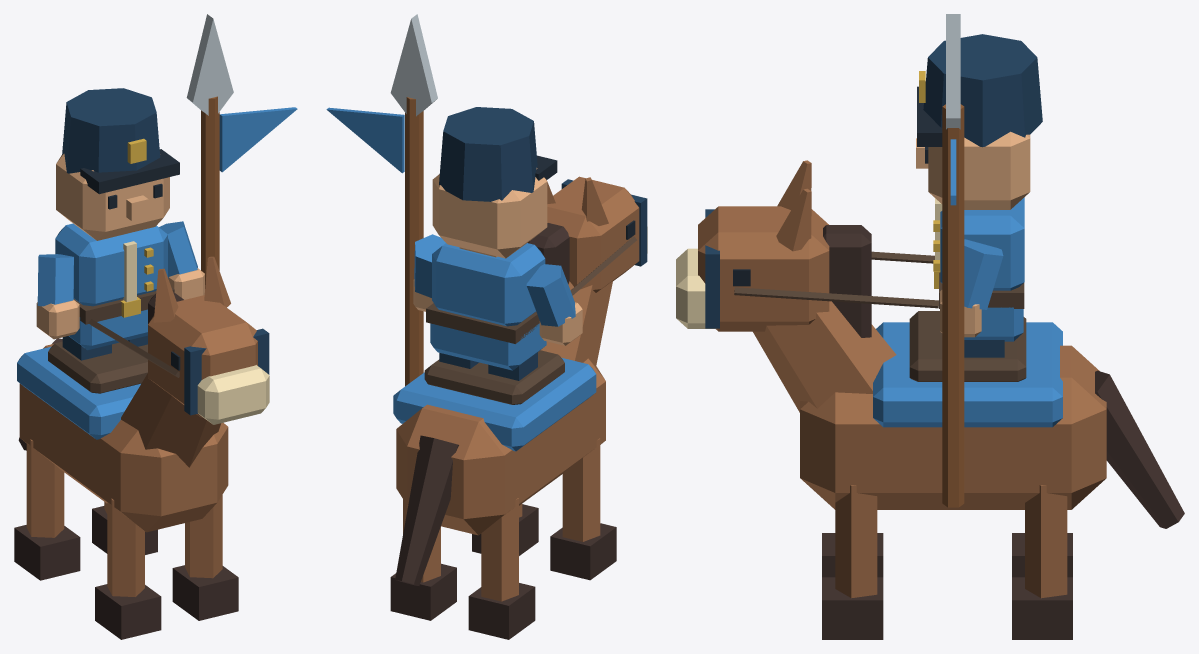
Rendered from u_lancer.glb.
3 renders of one model, left to right at view 1: azimuth 30°, elevation 25°; view 2: azimuth 150°, elevation 25°; view 3: azimuth 270°, elevation 25°, orthographic. The views are drawn at different scales.
Parts seen in each view (by area): view 1: u_lancer; view 2: u_lancer; view 3: u_lancer.
Boxes of the visible parts, x1=… form: u_lancer: x1=14, y1=14, x2=297, y2=639; u_lancer: x1=326, y1=14, x2=647, y2=639; u_lancer: x1=676, y1=14, x2=1184, y2=639.
Size of the model in its own units: 0.2344 by 0.485 by 0.3486.
